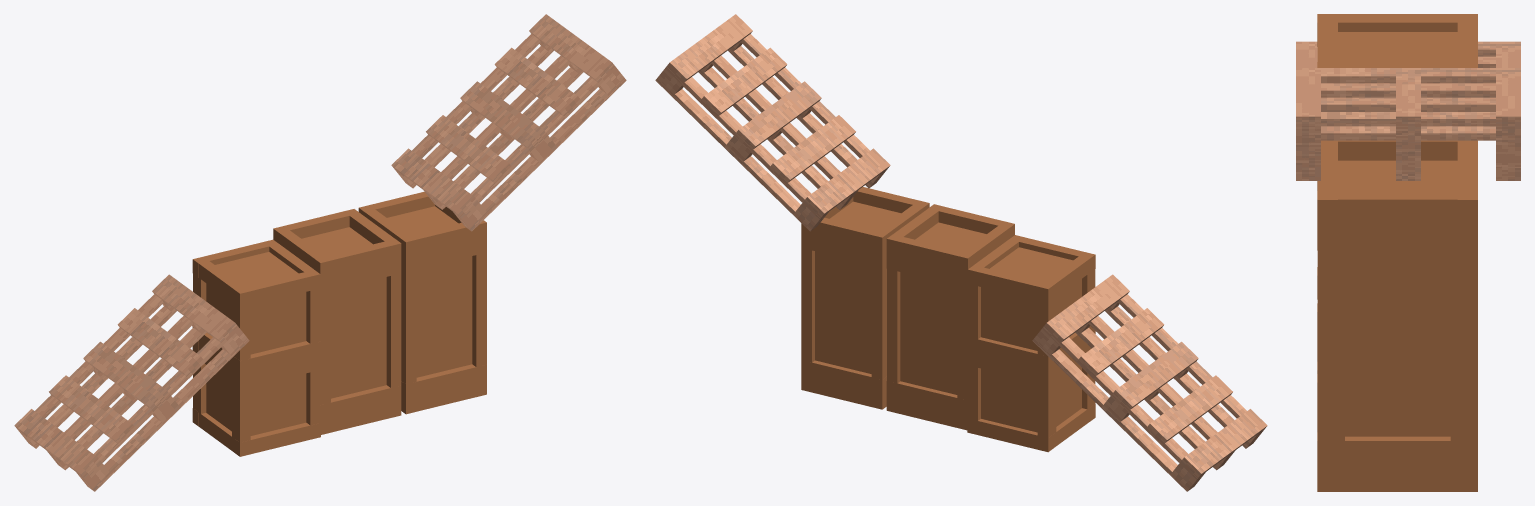
Rendered from makeshift_stairs.gltf.
3 renders of one model, left to right at view 1: azimuth 30°, elevation 25°; view 2: azimuth 150°, elevation 25°; view 3: azimuth 270°, elevation 25°, orthographic. The views are drawn at different scales.
Visible parts, largest first — view 1: cuboid (×6); view 2: cuboid (×6); view 3: cuboid (×5).
Part boxes in pixels (x1,y1,x2,y2): cuboid (×6): [14, 14, 626, 491]; cuboid (×6): [655, 14, 1267, 491]; cuboid (×5): [1296, 14, 1520, 491].
Bounding box in the file's own units: 6.79 × 3.68 × 1.43.
Materials: 2 (2 with a texture image).
